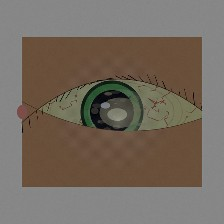corneal_ulcer: (87, 86, 154, 140)
